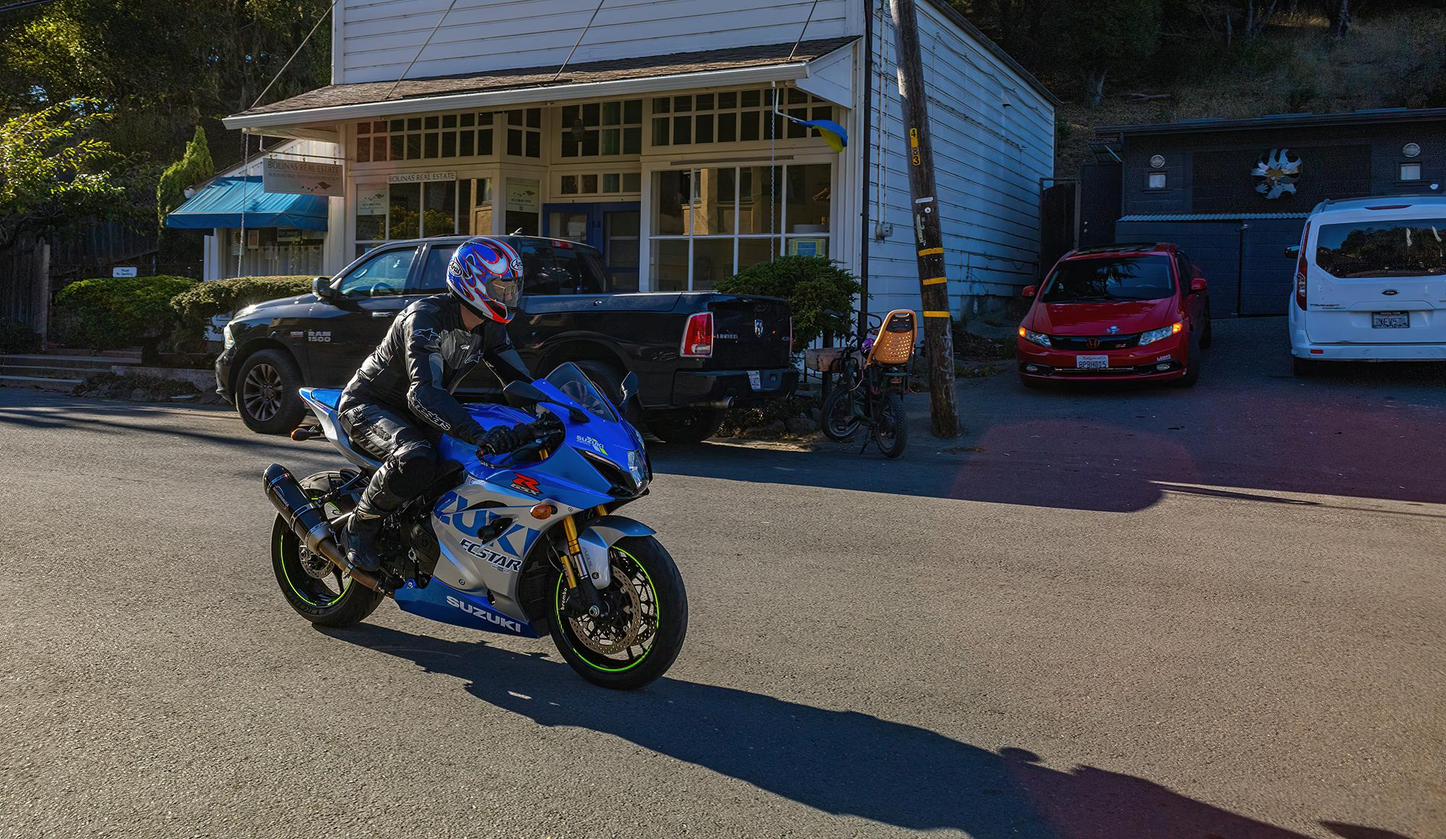helmet: (445, 235, 525, 327)
